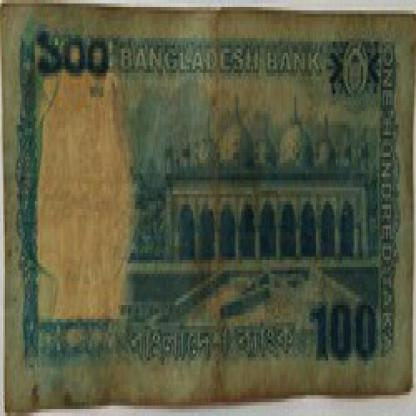one hundred taka: (28, 17, 115, 100), (306, 284, 379, 364)
